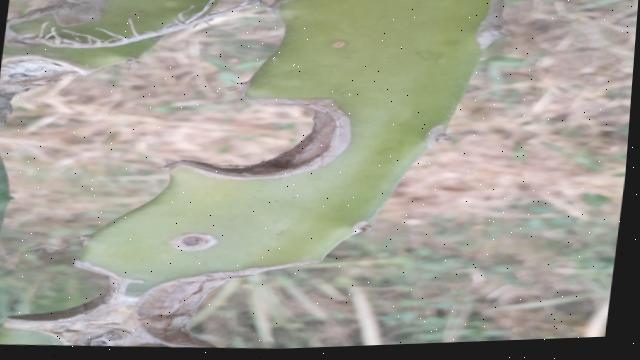stemcanker: (174, 232, 220, 253)
